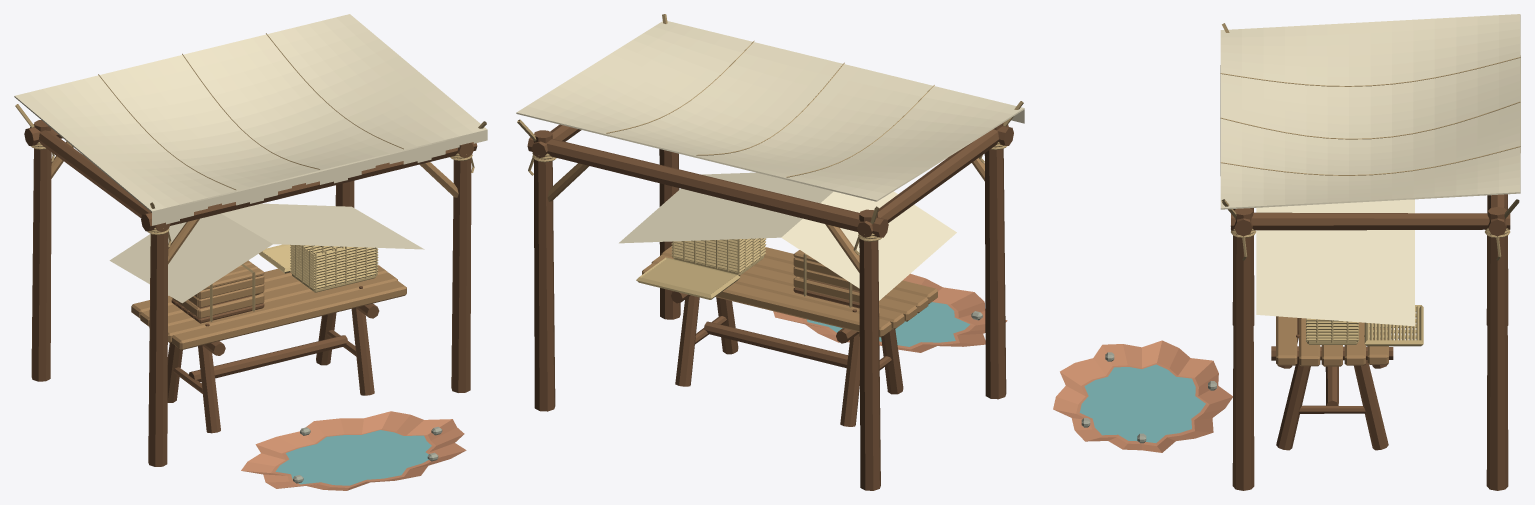
3 renders of one model, left to right at view 1: azimuth 30°, elevation 25°; view 2: azimuth 150°, elevation 25°; view 3: azimuth 270°, elevation 25°, orthographic. The views are drawn at different scales.
Visible parts, largest first — view 1: BA-0099 batched; view 2: BA-0099 batched; view 3: BA-0099 batched.
Part boxes in pixels (x1,y1,x2,y2): BA-0099 batched: [14, 14, 487, 490]; BA-0099 batched: [516, 14, 1024, 490]; BA-0099 batched: [1053, 14, 1520, 490].
Bounding box in the file's own units: 3.33 × 2.66 × 3.68.
